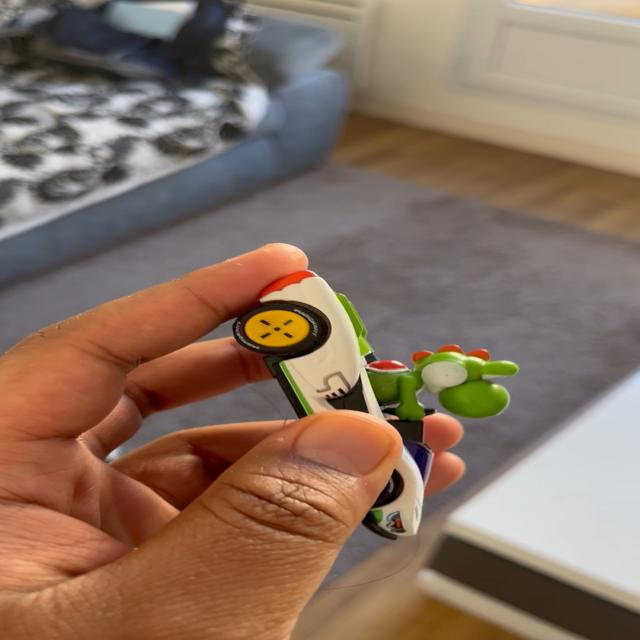yoshi: (230, 266, 540, 552)
